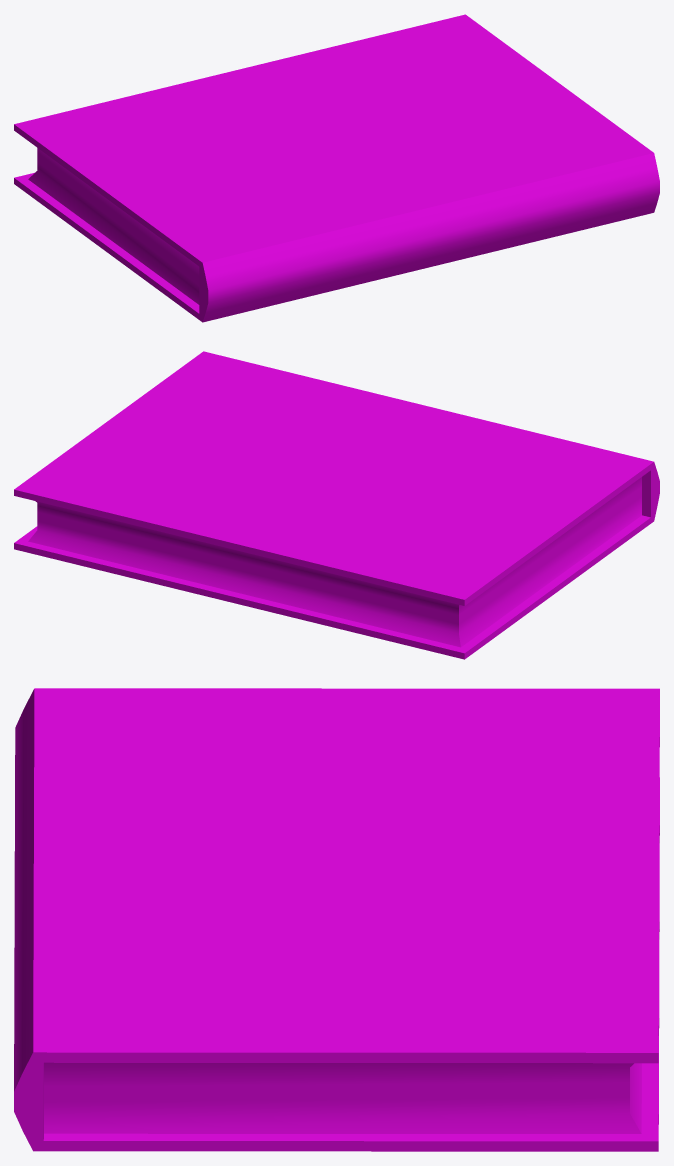
File: Livres_seule_02.fbx
3 renders of one model, top to bottom at view 1: azimuth 30°, elevation 25°; view 2: azimuth 150°, elevation 25°; view 3: azimuth 270°, elevation 25°, orthographic. The views are drawn at different scales.
Visible parts, largest first — view 1: Livres_seule1; view 2: Livres_seule1; view 3: Livres_seule1.
Part boxes in pixels (x1,y1,x2,y2): Livres_seule1: (14, 14, 659, 322); Livres_seule1: (14, 351, 659, 659); Livres_seule1: (14, 688, 659, 1151).
Bounding box in the file's own units: 0.3454 × 0.0436 × 0.2586.
